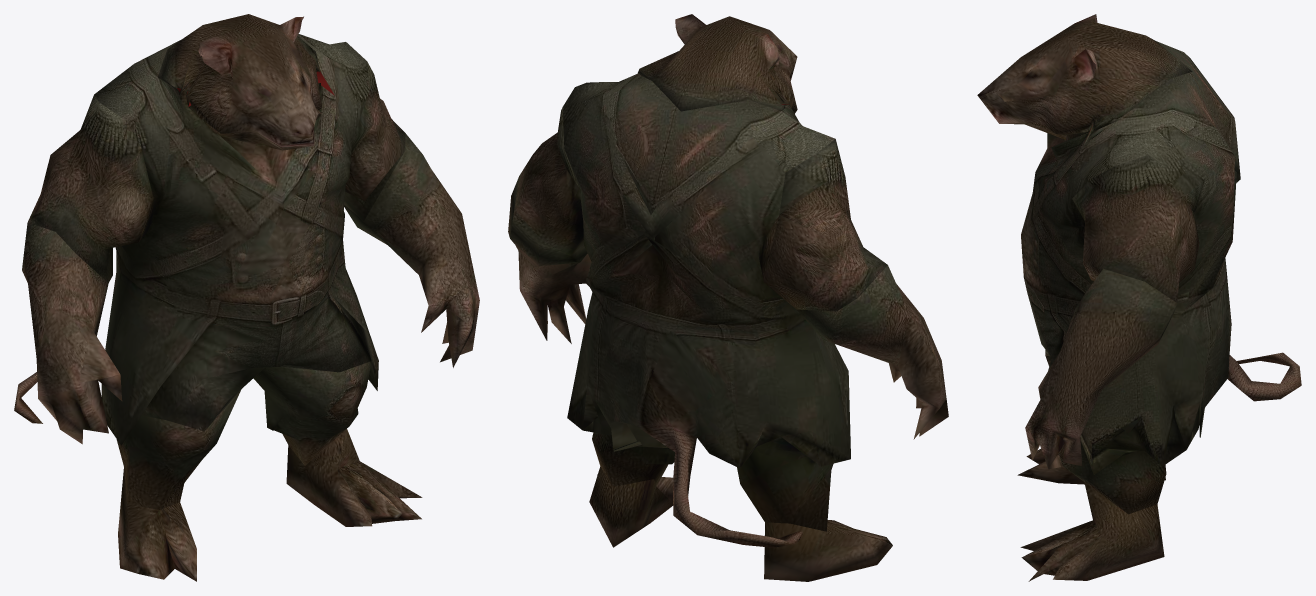
The model's file is cavalry_atk_gibs.glb.
3 views of the same model, side by side, from view 1: azimuth 30°, elevation 25°; view 2: azimuth 150°, elevation 25°; view 3: azimuth 270°, elevation 25° (orthographic). The views are drawn at different scales.
Visible parts, largest first — view 1: Body.001, Head.001, Forarm.R.001, Arm.R.001, Forarm.L.001, Upleg.L.001, Leg.L.001, Upleg.R.001, Leg.R.001, arm.L.001; view 2: Body.001, Arm.R.001, Head.001, Forarm.R.001, arm.L.001, Upleg.R.001, Leg.R.001, Forarm.L.001, Leg.L.001, Upleg.L.001; view 3: Body.001, Head.001, Forarm.L.001, arm.L.001, Leg.L.001, Upleg.L.001, Leg.R.001.
Part boxes in pixels (bbox=[...]): Body.001: bbox=[14, 34, 378, 445]; Head.001: bbox=[158, 14, 322, 150]; Forarm.R.001: bbox=[22, 222, 122, 444]; Arm.R.001: bbox=[27, 95, 153, 282]; Forarm.L.001: bbox=[344, 133, 479, 367]; Upleg.L.001: bbox=[253, 361, 371, 465]; Leg.L.001: bbox=[286, 429, 422, 526]; Upleg.R.001: bbox=[116, 390, 240, 509]; Leg.R.001: bbox=[118, 468, 196, 581]; arm.L.001: bbox=[344, 62, 405, 220]; Body.001: bbox=[562, 74, 850, 547]; Arm.R.001: bbox=[764, 139, 887, 311]; Head.001: bbox=[637, 14, 797, 111]; Forarm.R.001: bbox=[797, 265, 948, 439]; arm.L.001: bbox=[513, 107, 584, 255]; Upleg.R.001: bbox=[737, 447, 833, 531]; Leg.R.001: bbox=[764, 520, 892, 581]; Forarm.L.001: bbox=[508, 177, 591, 343]; Leg.L.001: bbox=[589, 466, 673, 547]; Upleg.L.001: bbox=[592, 432, 674, 486]; Body.001: bbox=[1021, 41, 1301, 474]; Head.001: bbox=[977, 14, 1192, 139]; Forarm.L.001: bbox=[1025, 268, 1176, 469]; arm.L.001: bbox=[1072, 155, 1205, 302]; Leg.L.001: bbox=[1020, 482, 1164, 581]; Upleg.L.001: bbox=[1058, 441, 1166, 514]; Leg.R.001: bbox=[1017, 449, 1165, 484].
Size of the model in its own units: 0.8554 by 0.9745 by 0.5843.
2 materials, 1 textured.
